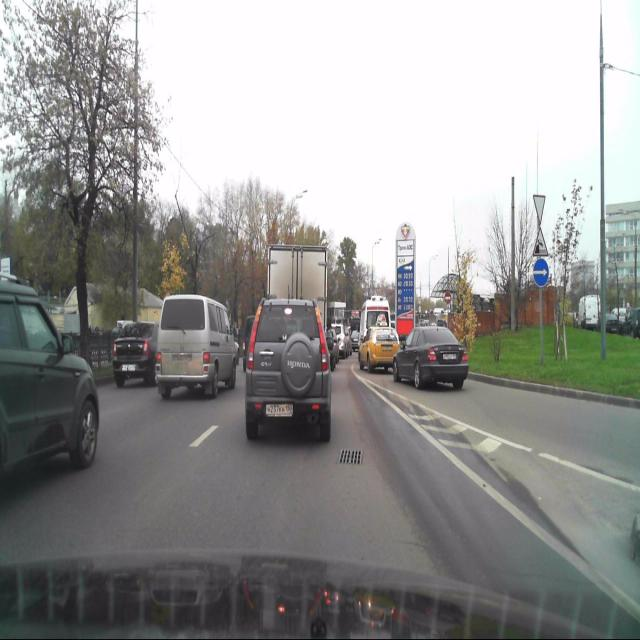road sign: (532, 225, 548, 257), (532, 194, 546, 225)
